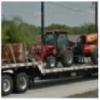tractors: (28, 28, 76, 68)
